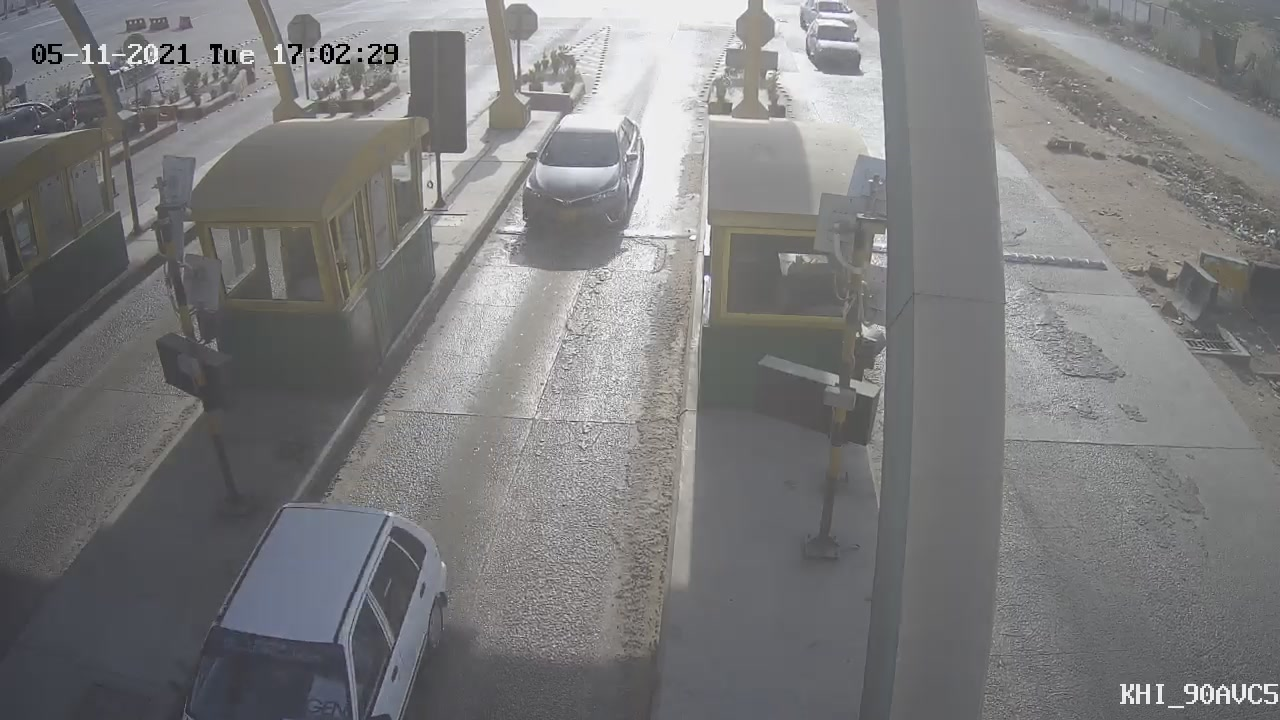F1: (501, 96, 668, 265)
